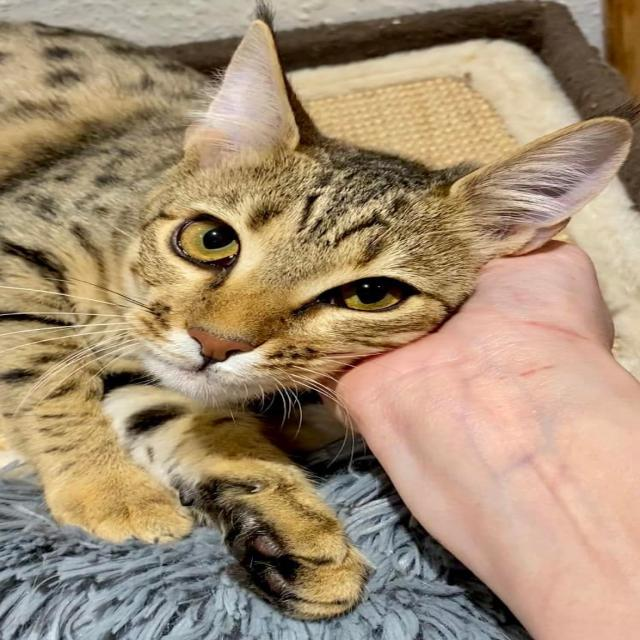Savannah: (0, 0, 640, 626)
